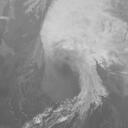cyclone: (41, 36, 100, 113)
